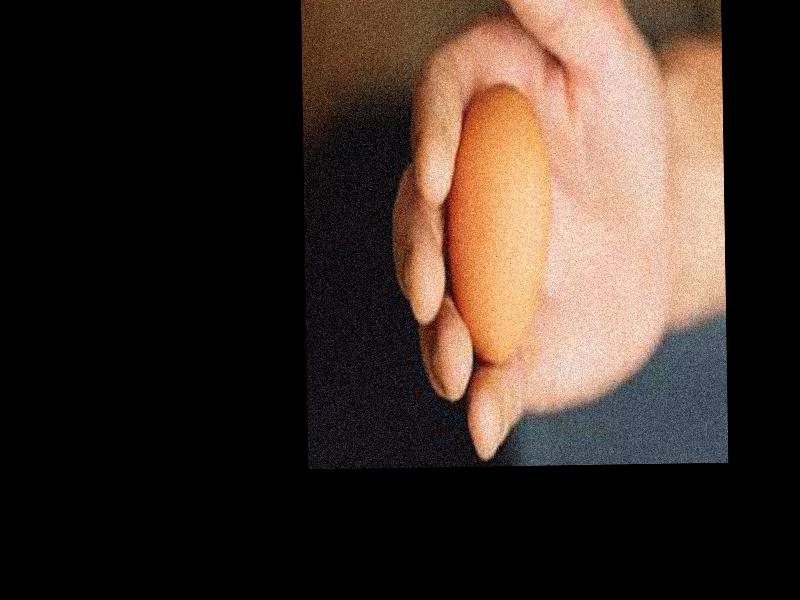Eggs: (448, 86, 552, 366)
